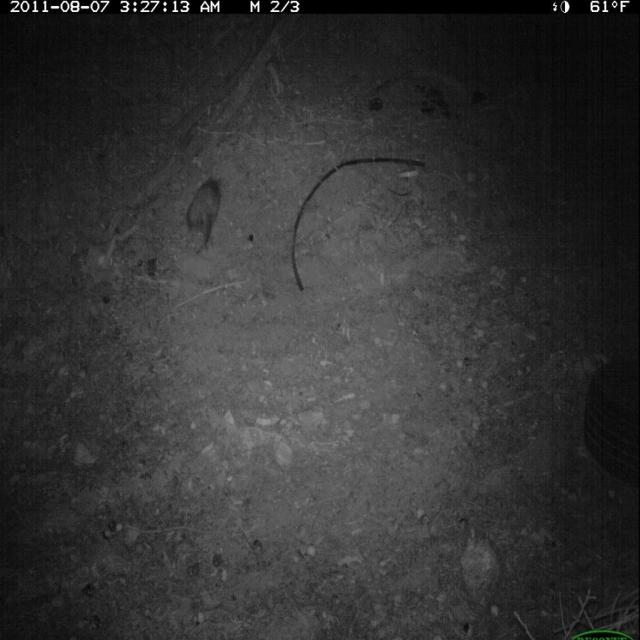opossum: (181, 173, 227, 257)
